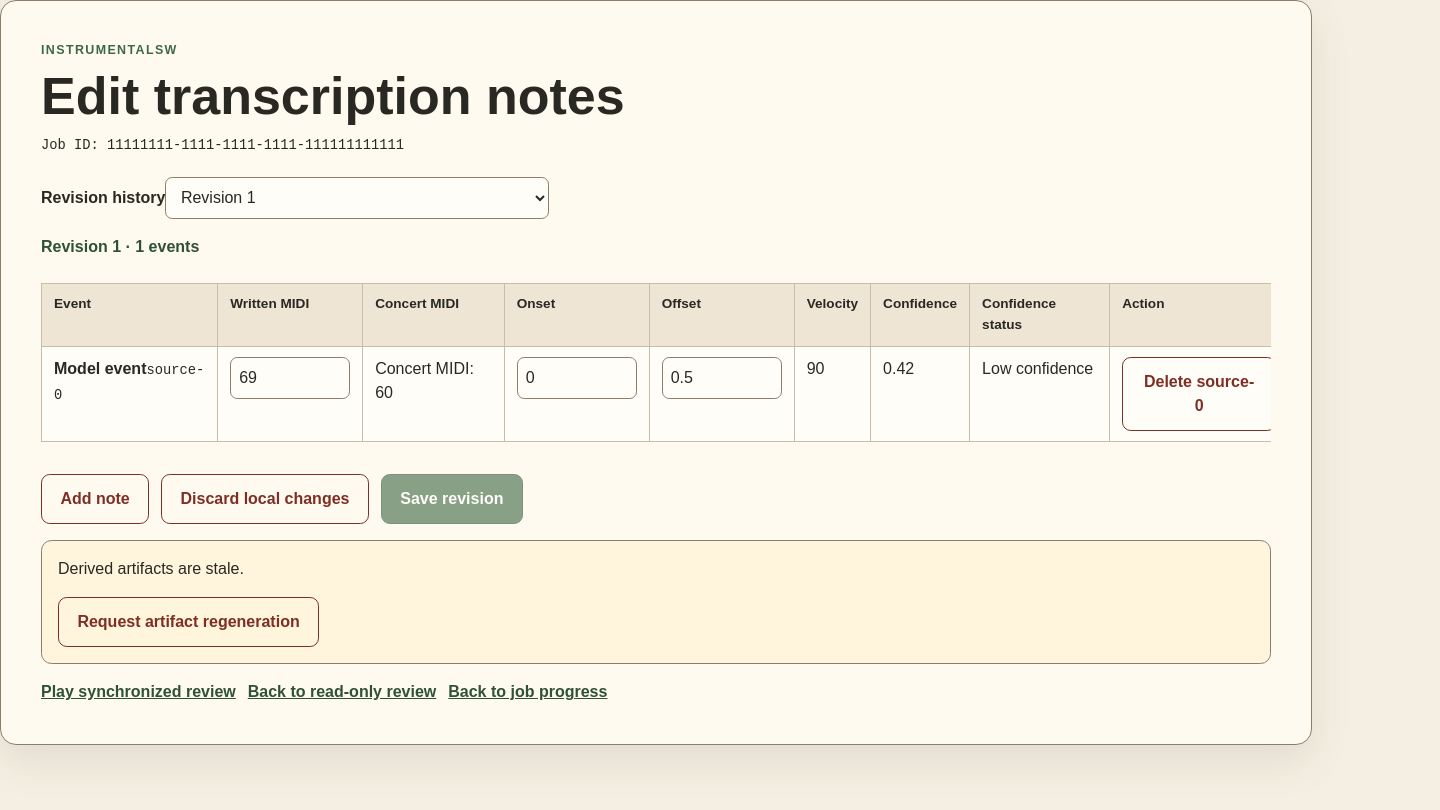
TranscriptionRevisionEditor failure states › reports regeneration failure and keeps the stale status
Click the button "Request artifact regeneration" at {"x": 189, "y": 622}, box [58,597,319,647]
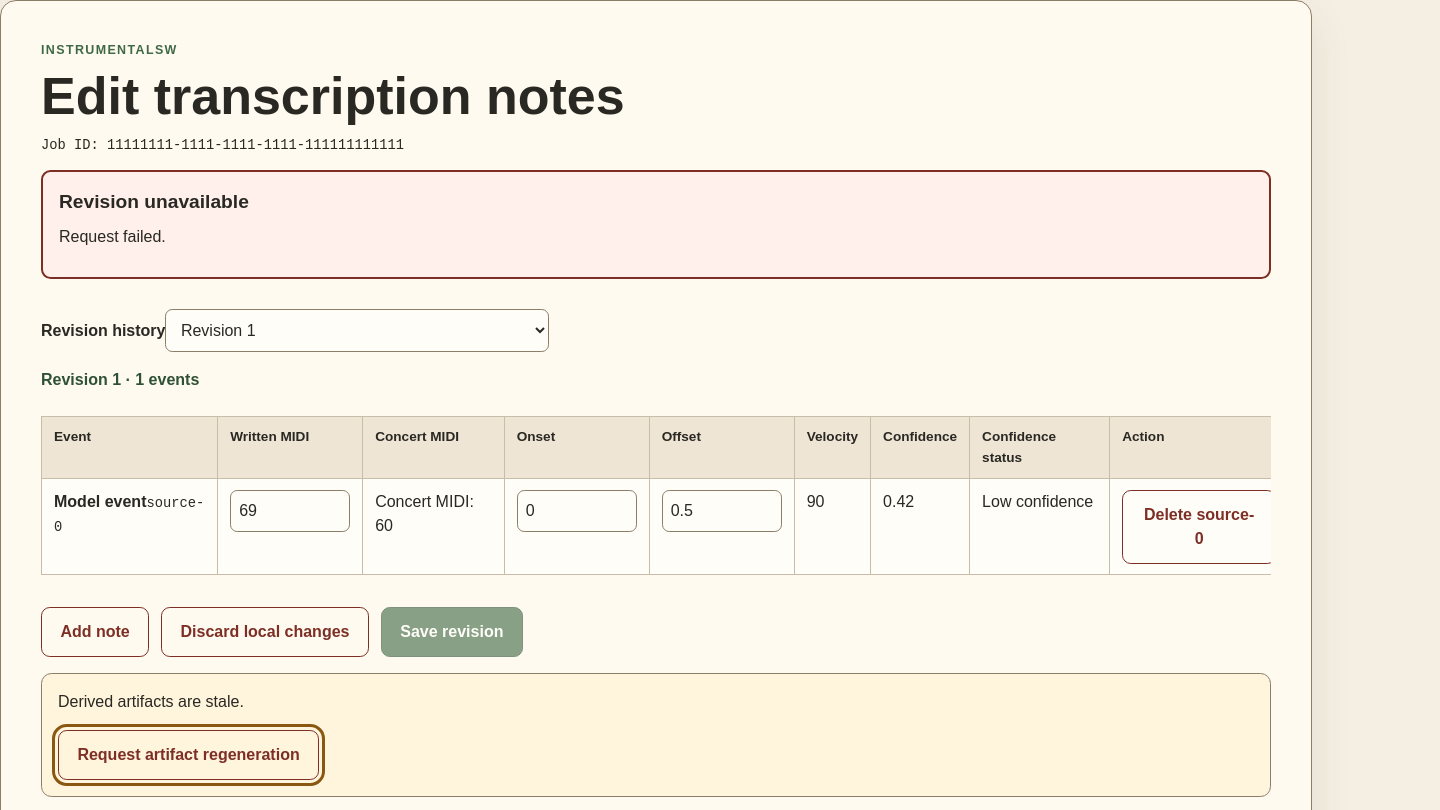
Expected: the text "Derived artifacts are stale." is shown, [58,693,244,710]
Result: the message shows "Request failed." at [59,228,166,245]
